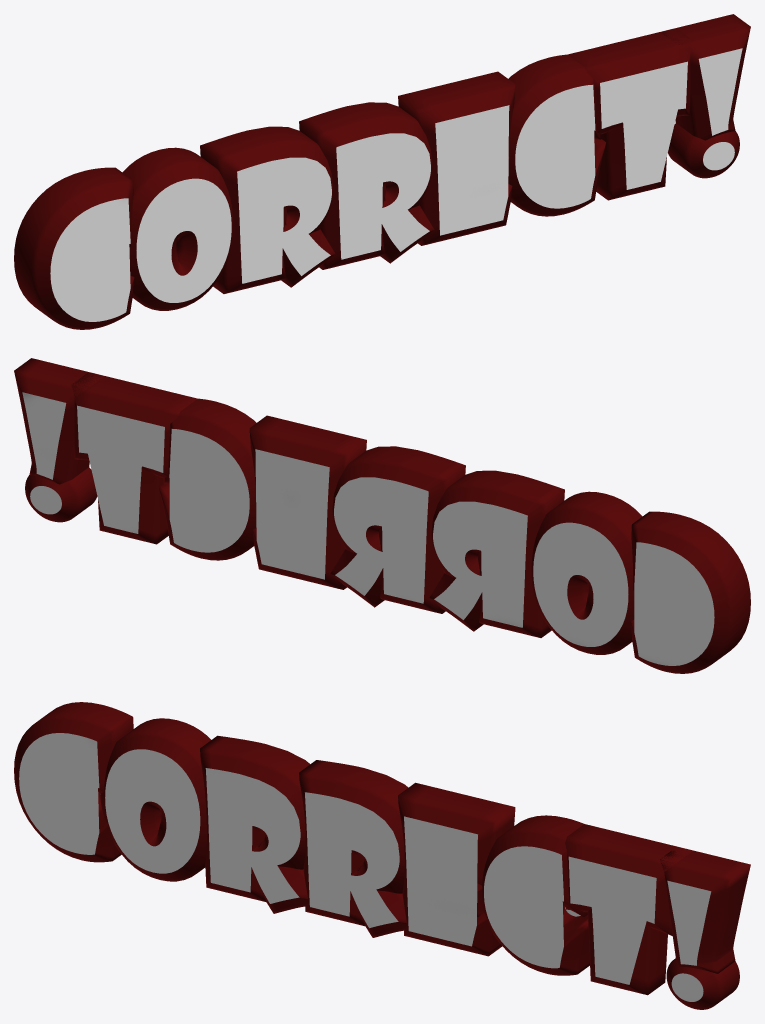
The model's file is CorrectText.fbx.
3 renders of one model, top to bottom at view 1: azimuth 30°, elevation 25°; view 2: azimuth 150°, elevation 25°; view 3: azimuth 330°, elevation 25°, orthographic.
Visible parts, largest first — view 1: polySurface1; view 2: polySurface1; view 3: polySurface1.
Boxes of the visible parts, bbox=[...] form: polySurface1: bbox=[14, 14, 750, 329]; polySurface1: bbox=[14, 358, 750, 673]; polySurface1: bbox=[14, 702, 750, 1009].
Bounding box in the file's own units: 5.96 × 1.21 × 0.45.
